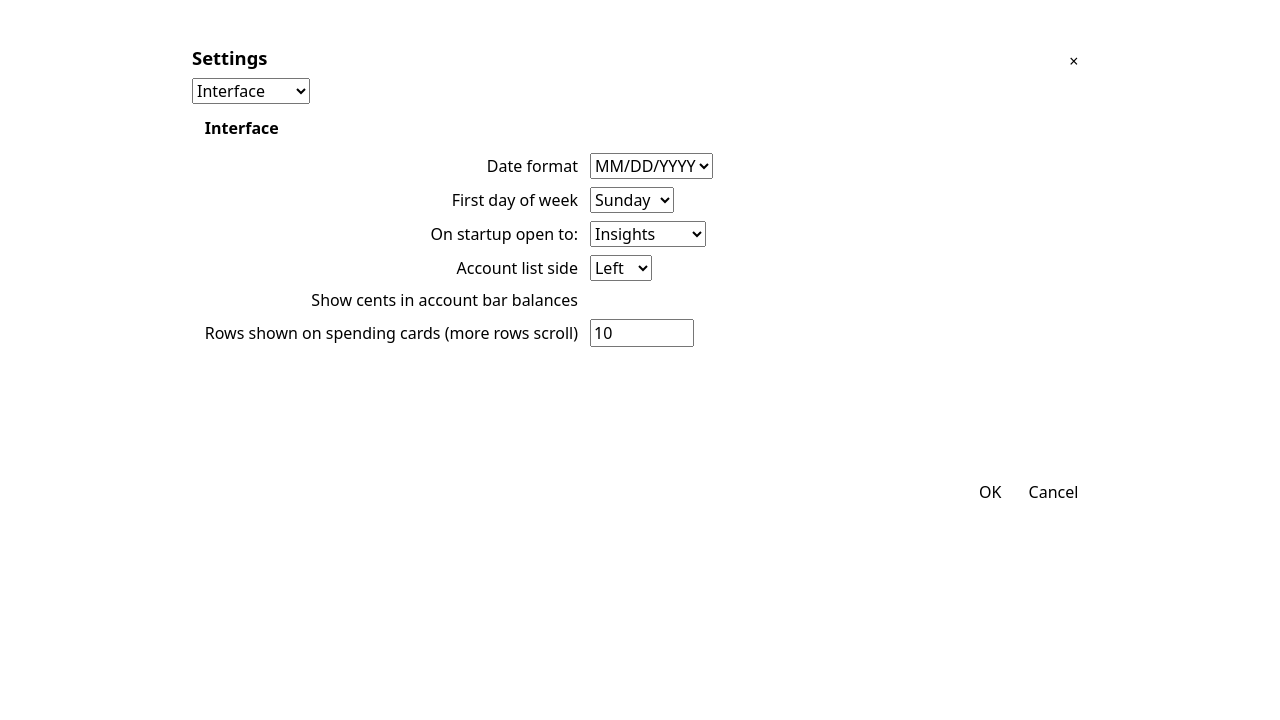
Scenario: SettingsModal backups › shows the folder path and its buttons under the Backup folder label
Select "Backups" in the dropdown named "Settings category" at x=251, y=91, box 192,78 -> 310,104
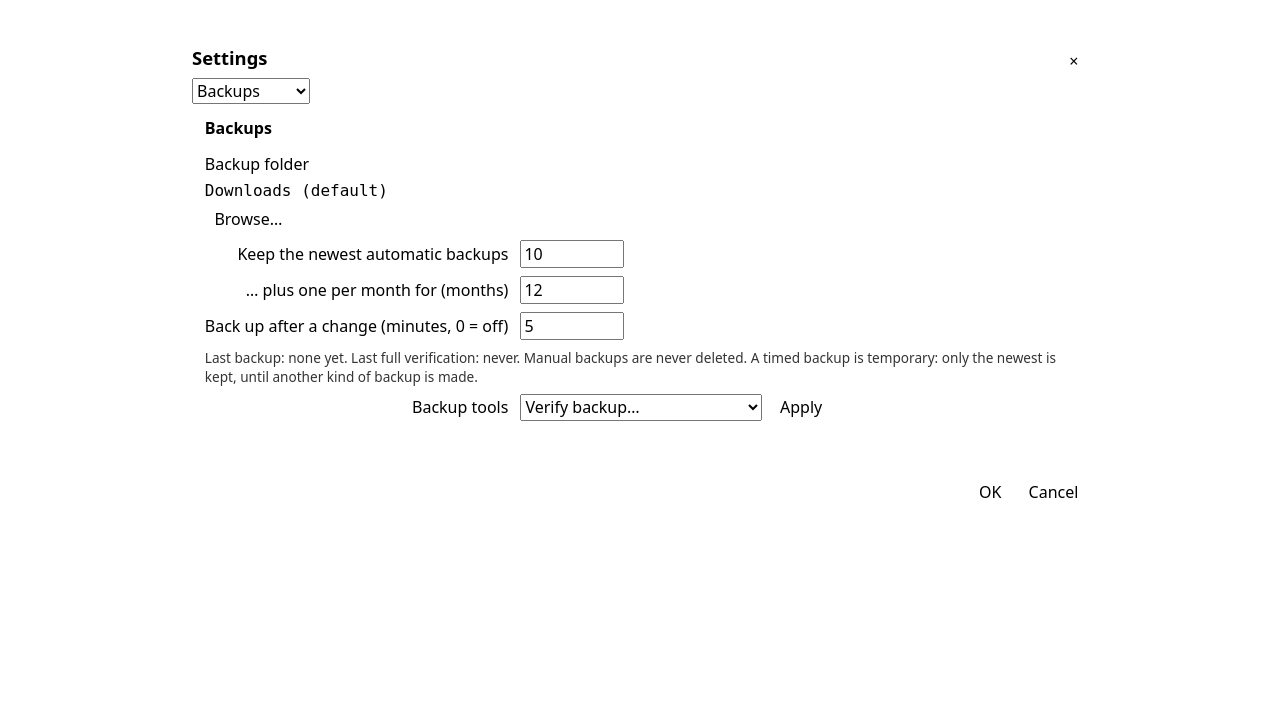
Check: the text "Downloads (default)" is shown, box 205,181 -> 388,200
Check: the button "Browse…" is shown, box 205,205 -> 292,232
